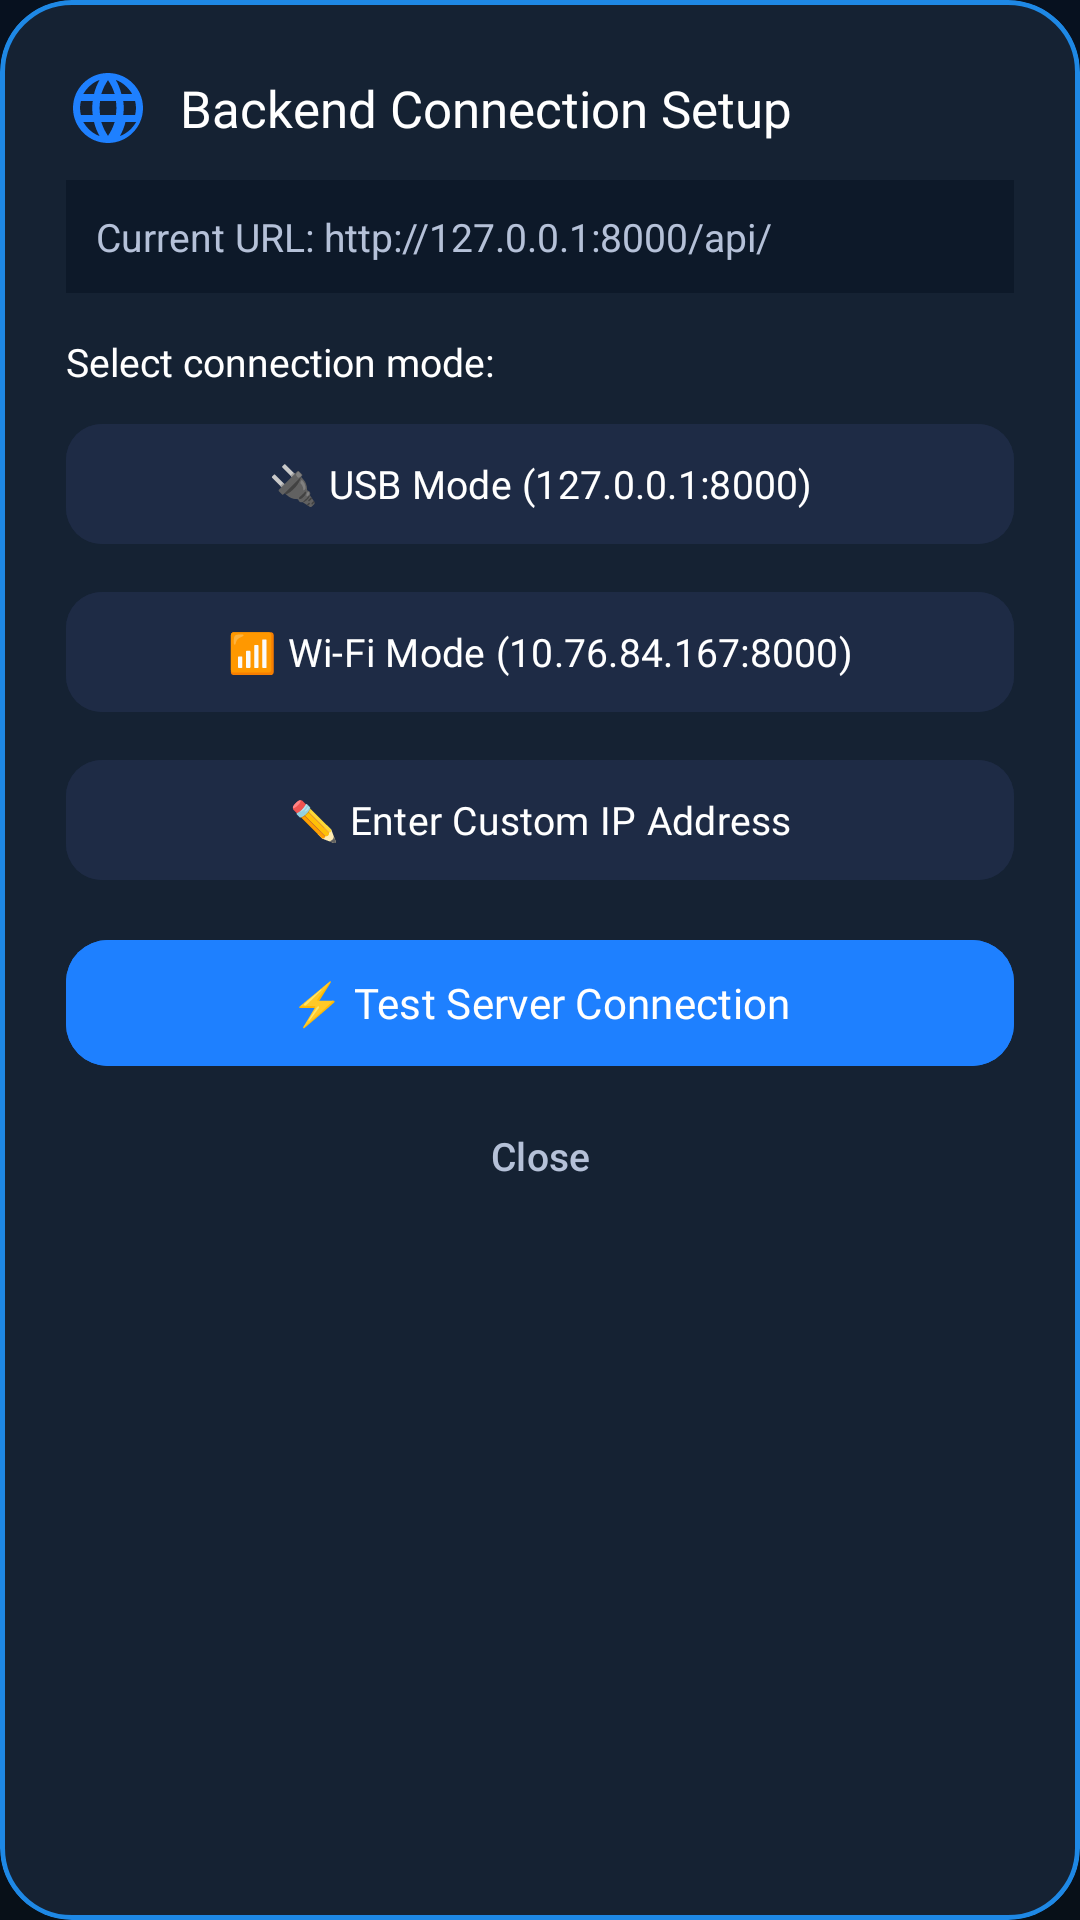

Point at icon controls on the screen. Image size 1080w x 1920h, points as point (x, y).
language: point (108, 108)
